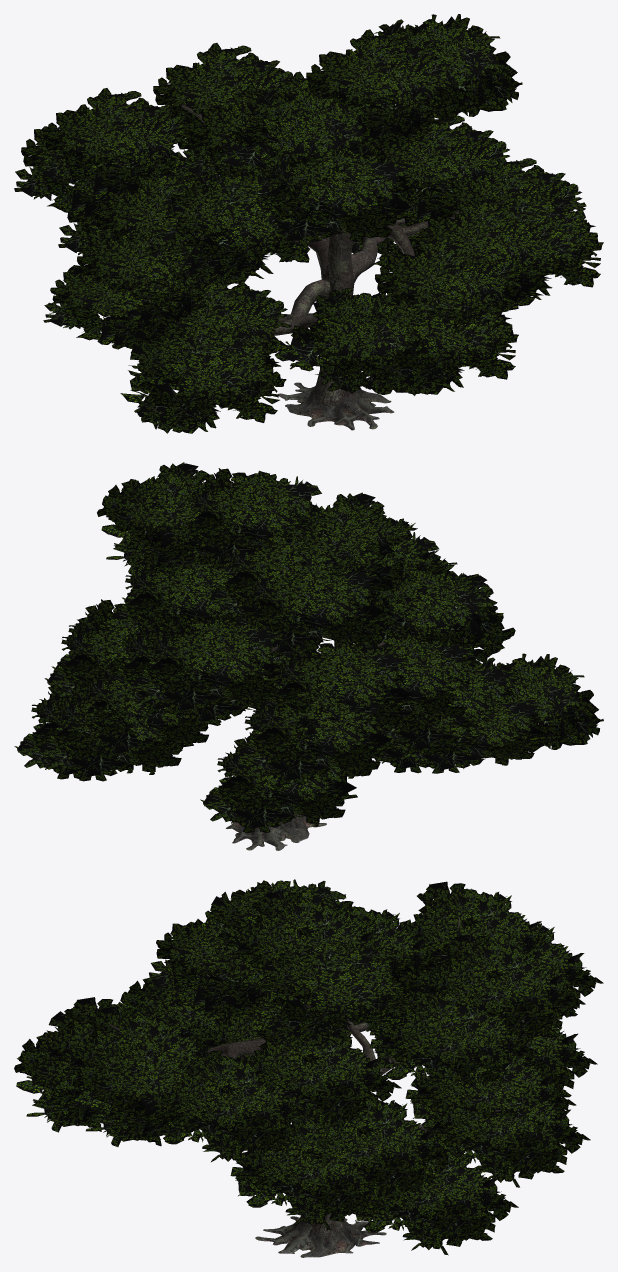
Rendered from Tree_I.fbx.
3 renders of one model, top to bottom at view 1: azimuth 30°, elevation 25°; view 2: azimuth 150°, elevation 25°; view 3: azimuth 270°, elevation 25°, orthographic. The views are drawn at different scales.
Visible parts, largest first — view 1: A; view 2: A; view 3: A.
Boxes of the visible parts, left/top/right/bottom form: A: left=14, top=14, right=603, bottom=433; A: left=14, top=462, right=603, bottom=850; A: left=14, top=879, right=603, bottom=1257.
Size of the model in its own units: 3979 by 2720 by 4149.
